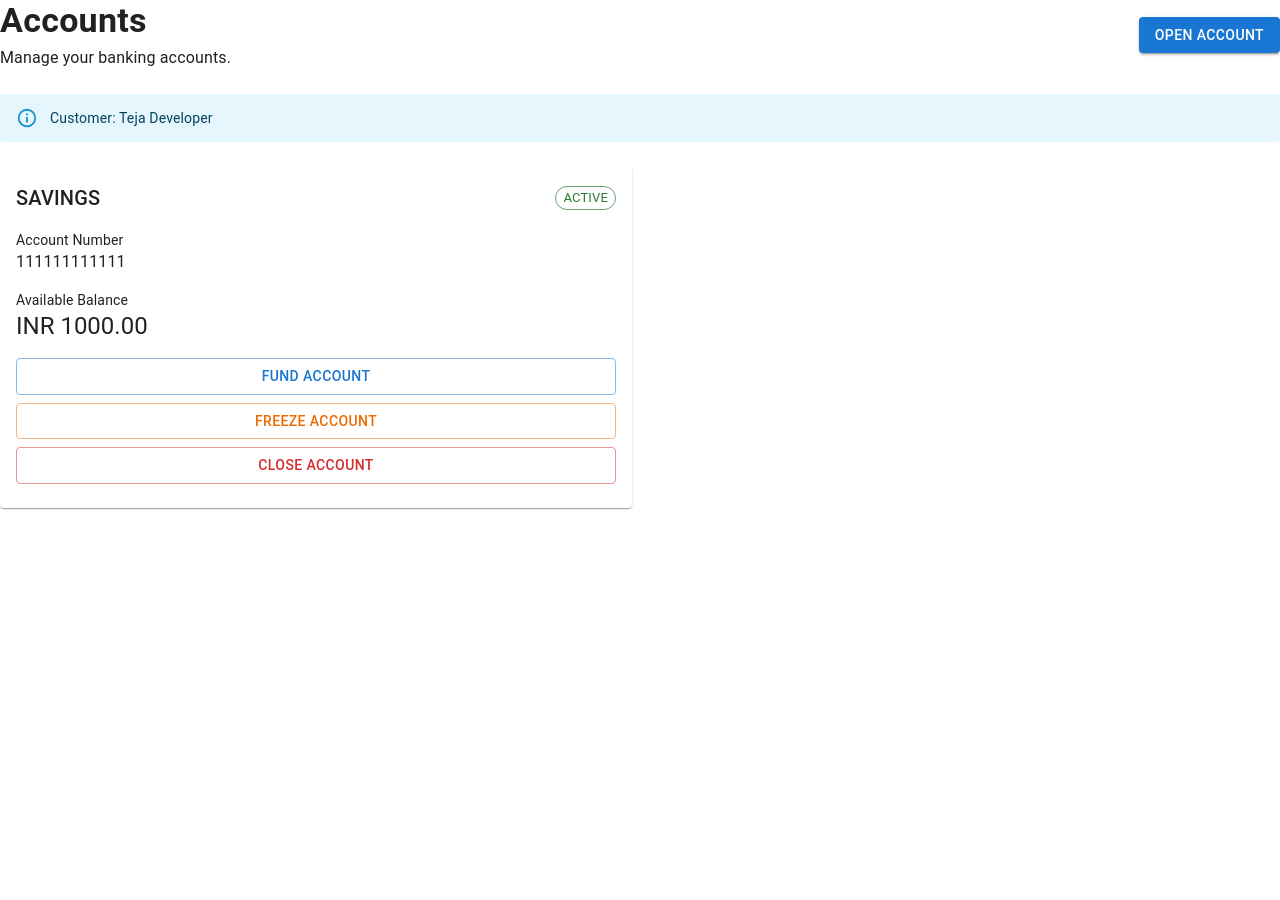
Scenario: Accounts › rejects funding amount with more than two decimals
This screenshot has width=1280, height=900.
Expected: the text "111111111111" is shown, [16,252,126,271]
Click the button "Fund Account" at (316, 376), box [16,358,616,394]
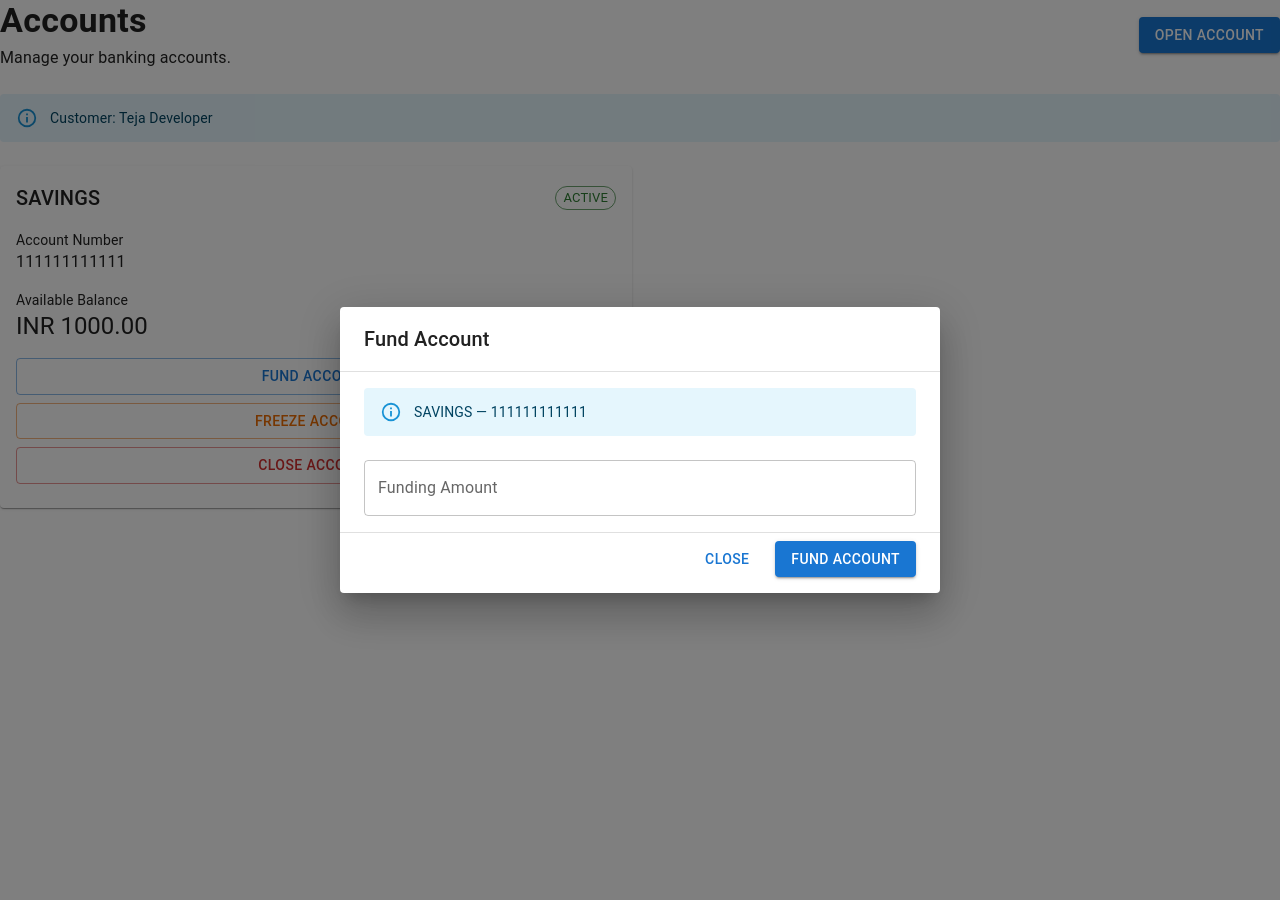
Type "100.123" into the field labelled "Funding Amount" at (640, 488), box [364,460,916,516]
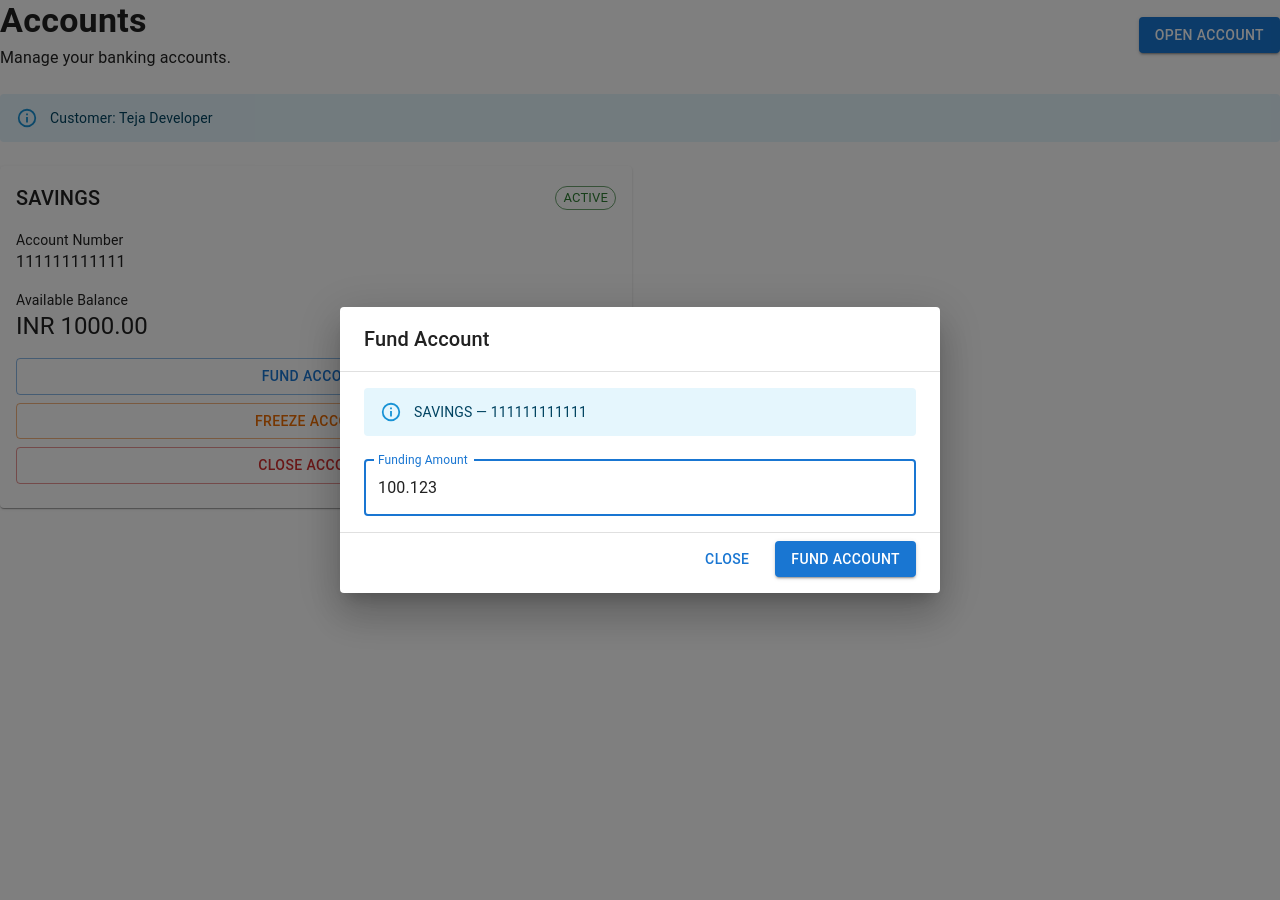
Click the button "Fund Account" at (846, 559), box [775,541,916,577]
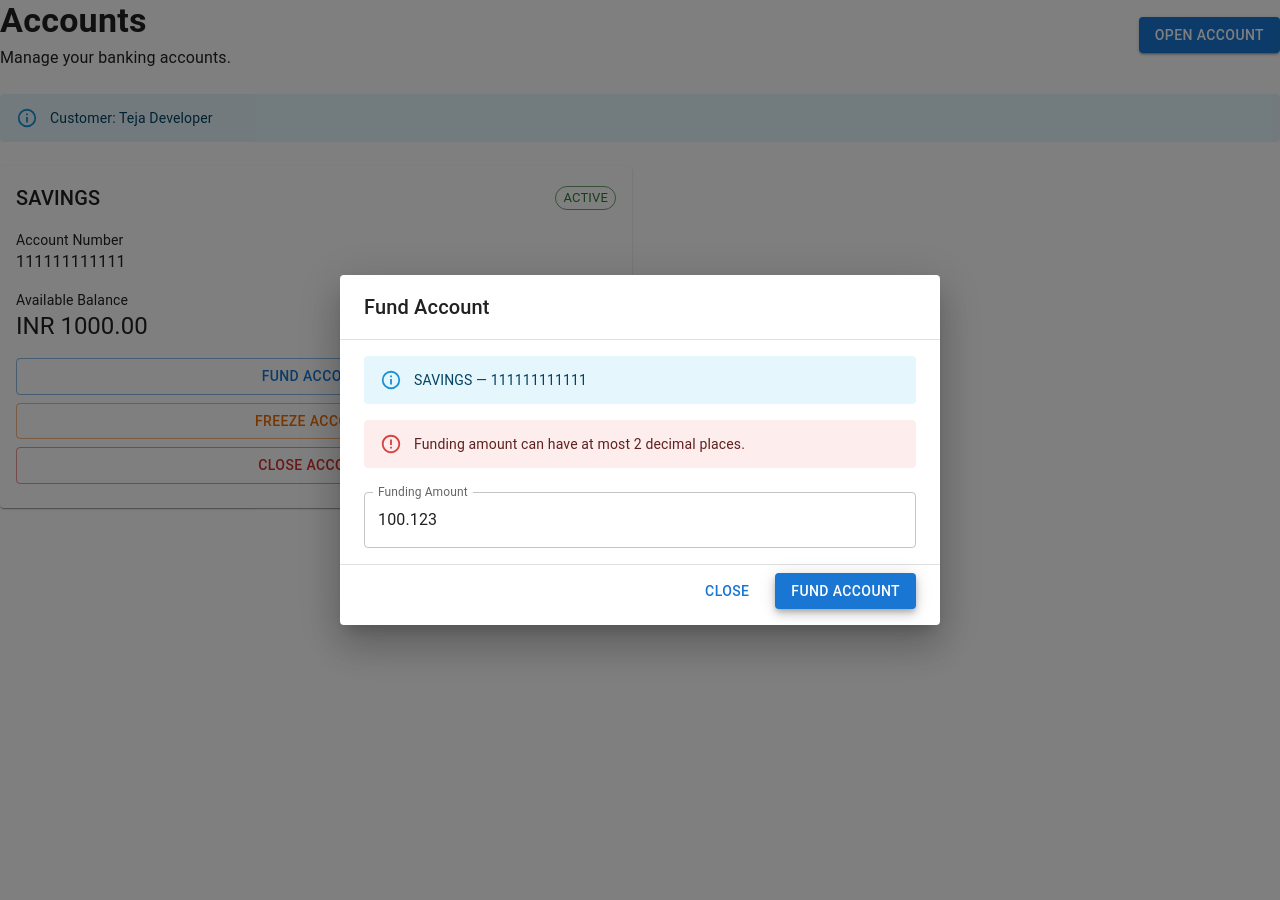
Expected: the text "Funding amount can have at most 2 decimal places." is shown, [414,436,745,452]
